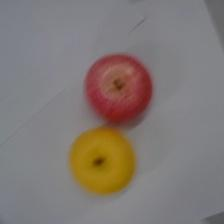red: (85, 54, 152, 122)
yellow: (69, 128, 134, 195)
